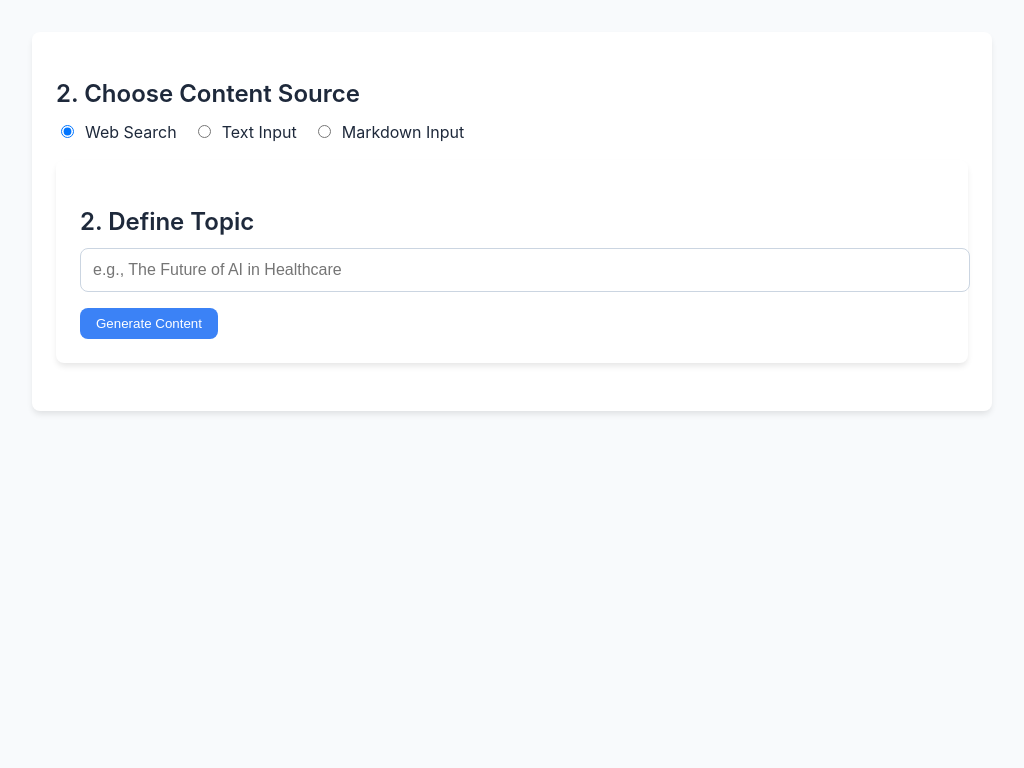
it: ContentInput › Markdown Parsing › displays error on parsing failure
The width and height of the screenshot is (1024, 768).
Click the radio button labelled "Markdown Input" at coordinates (324, 131), box x1=318 y1=125 x2=331 y2=138
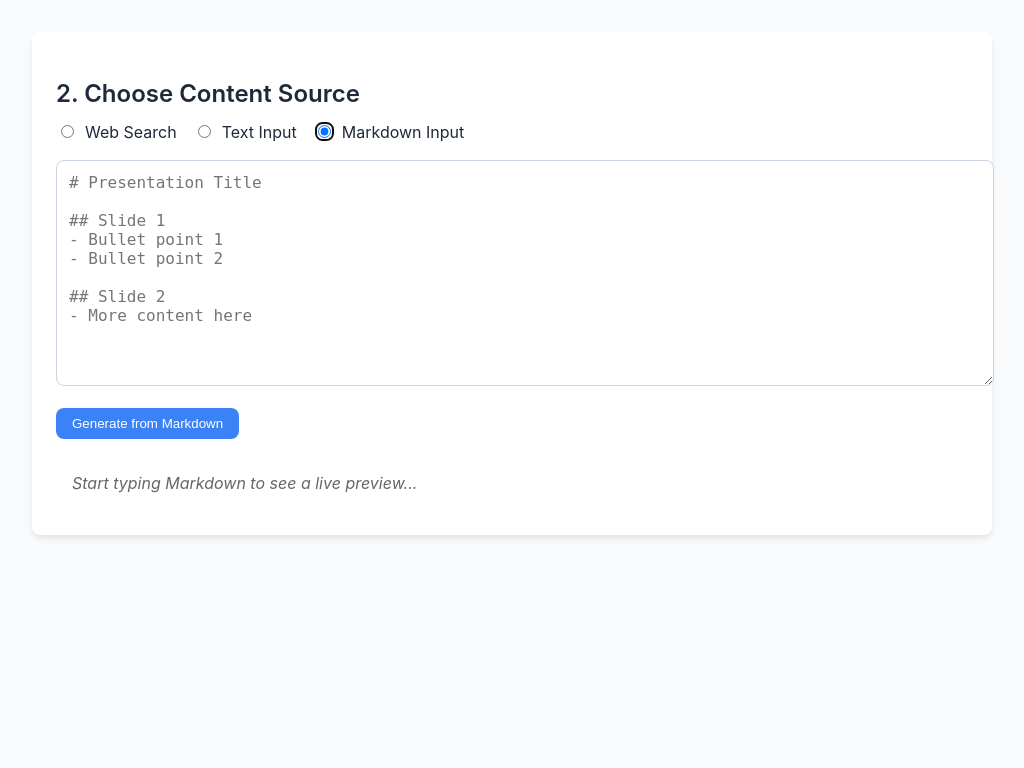
Type "# Test" into the text box with placeholder "# Presentation Title" at coordinates (525, 273), box x1=56 y1=160 x2=994 y2=386
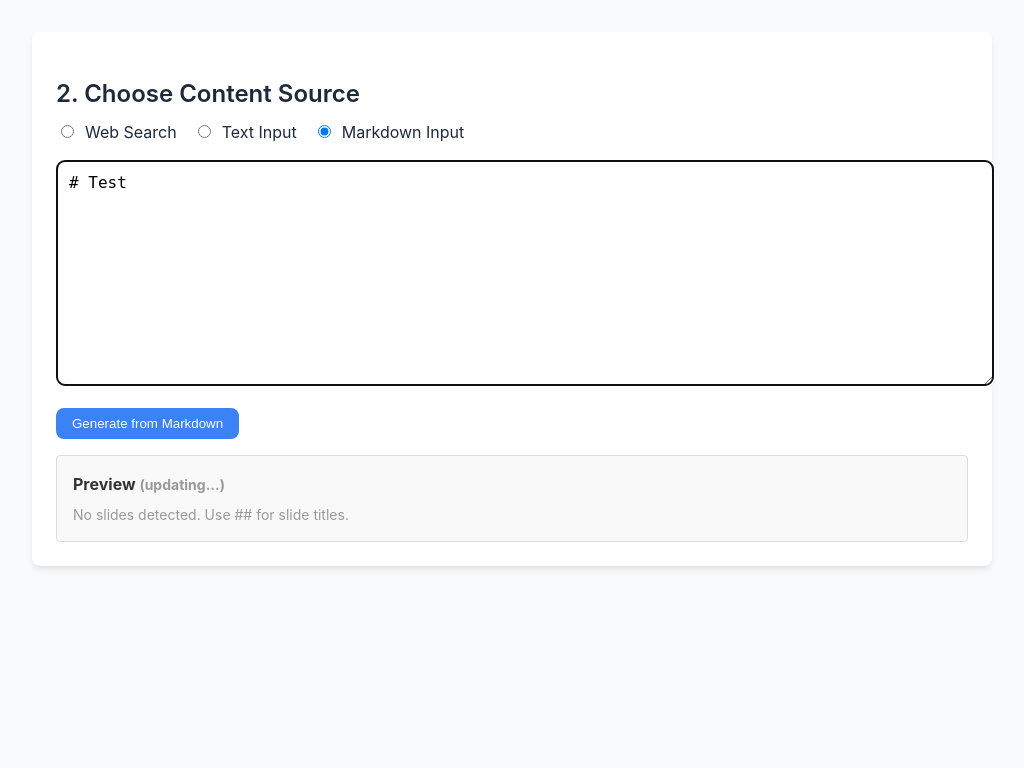
Click the button "Generate from Markdown" at coordinates (148, 423), box x1=56 y1=408 x2=239 y2=439
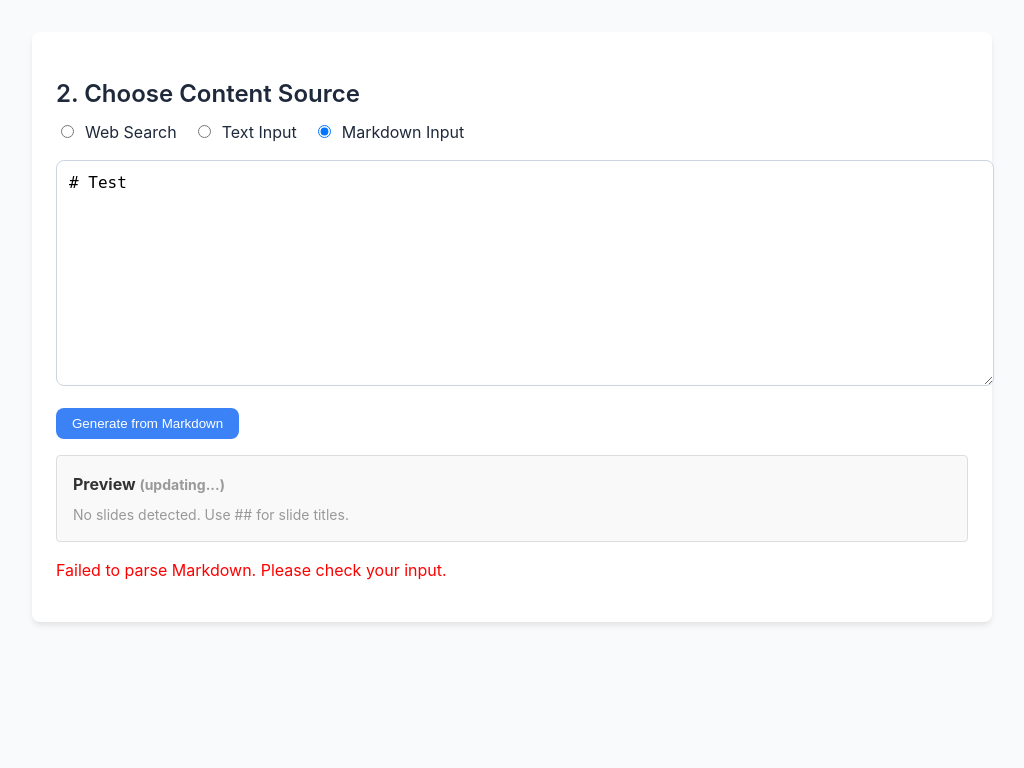
Expected: the text "Failed to parse Markdown. Please check your input." is shown, x1=56 y1=560 x2=447 y2=580
